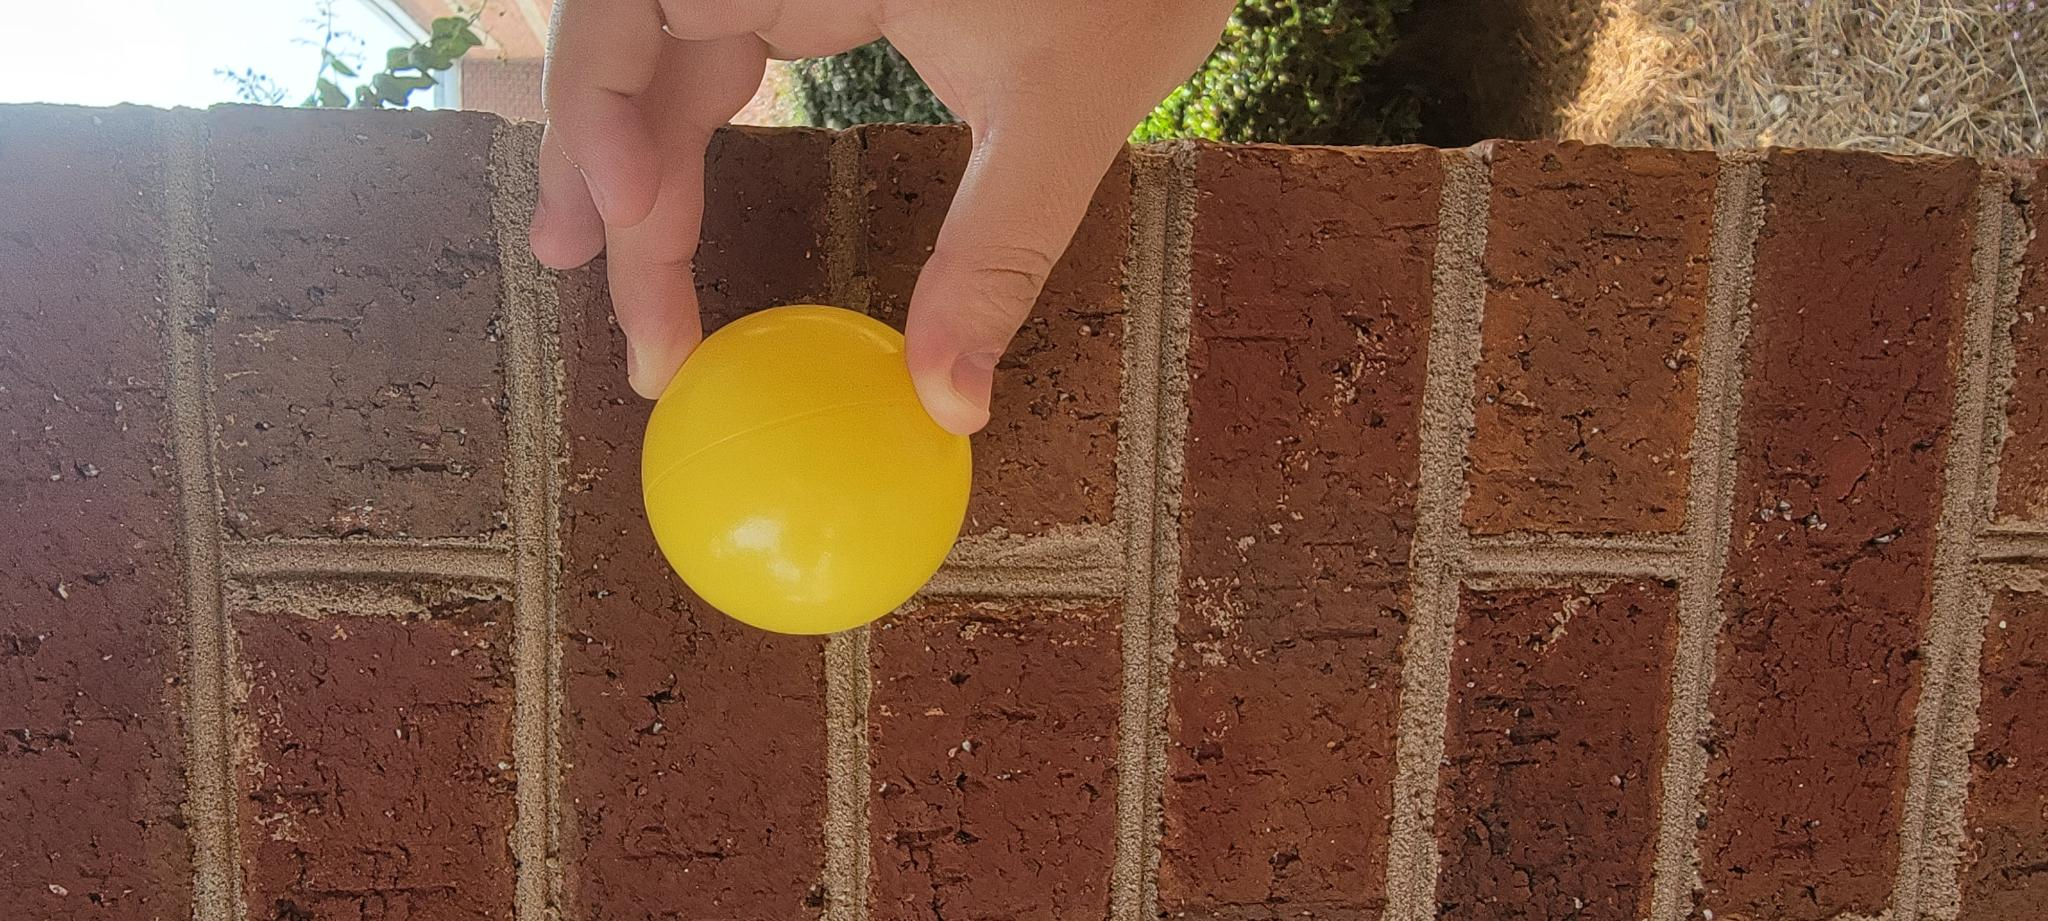Yellow-Ball: (286, 641, 616, 921)
